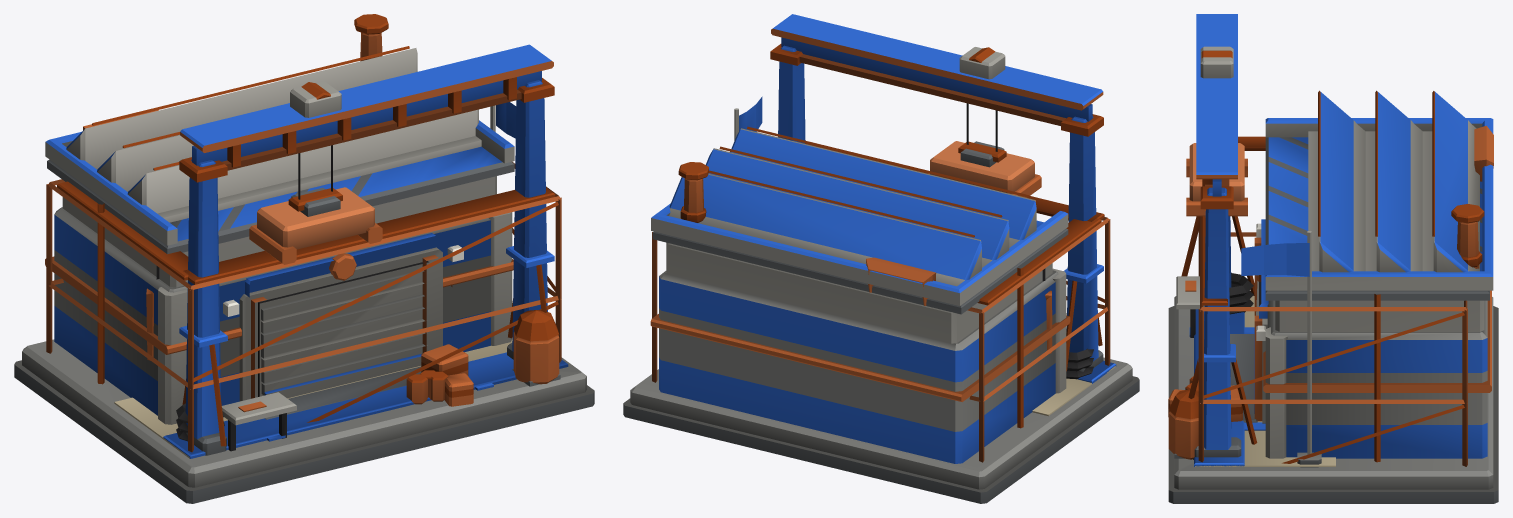
3 renders of one model, left to right at view 1: azimuth 30°, elevation 25°; view 2: azimuth 150°, elevation 25°; view 3: azimuth 270°, elevation 25°, orthographic. The views are drawn at different scales.
Parts seen in each view (by area): view 1: body, scaffoldFrame, swayHook; view 2: body, scaffoldFrame, swayHook; view 3: body, scaffoldFrame, swayFlag, swayHook.
Boxes of the visible parts, x1,y1,x2,y2 form: body: (14,14,594,503); scaffoldFrame: (46,161,561,452); swayHook: (249,145,382,264); body: (623,14,1139,503); scaffoldFrame: (652,143,1110,462); swayHook: (928,103,1041,197); body: (1168,14,1498,503); scaffoldFrame: (1198,136,1467,466); swayFlag: (1241,243,1309,276); swayHook: (1186,143,1247,216).
Bounding box in the file's own units: 4 × 3.38 × 3.
